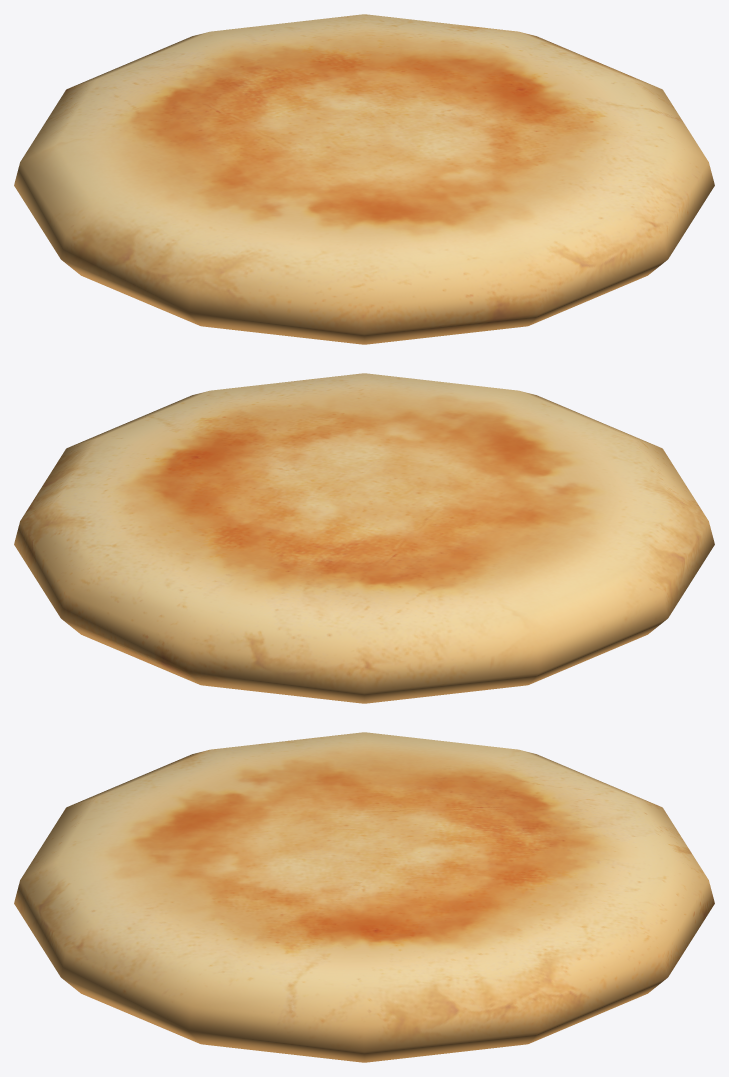
The model's file is Pita.fbx.
3 views of the same model, one above another, from view 1: azimuth 30°, elevation 25°; view 2: azimuth 150°, elevation 25°; view 3: azimuth 270°, elevation 25° (orthographic).
Parts seen in each view (by area): view 1: Pita; view 2: Pita; view 3: Pita.
Part boxes in pixels (x1,y1,x2,y2): Pita: (14,14,714,344); Pita: (14,373,714,703); Pita: (14,732,714,1062).
Bounding box in the file's own units: 53.1 × 6.67 × 53.1.
